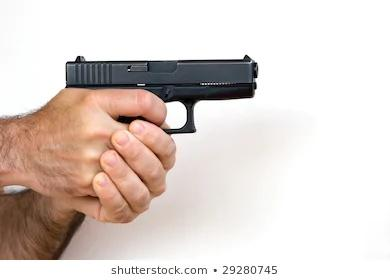gun: (57, 51, 260, 180)
